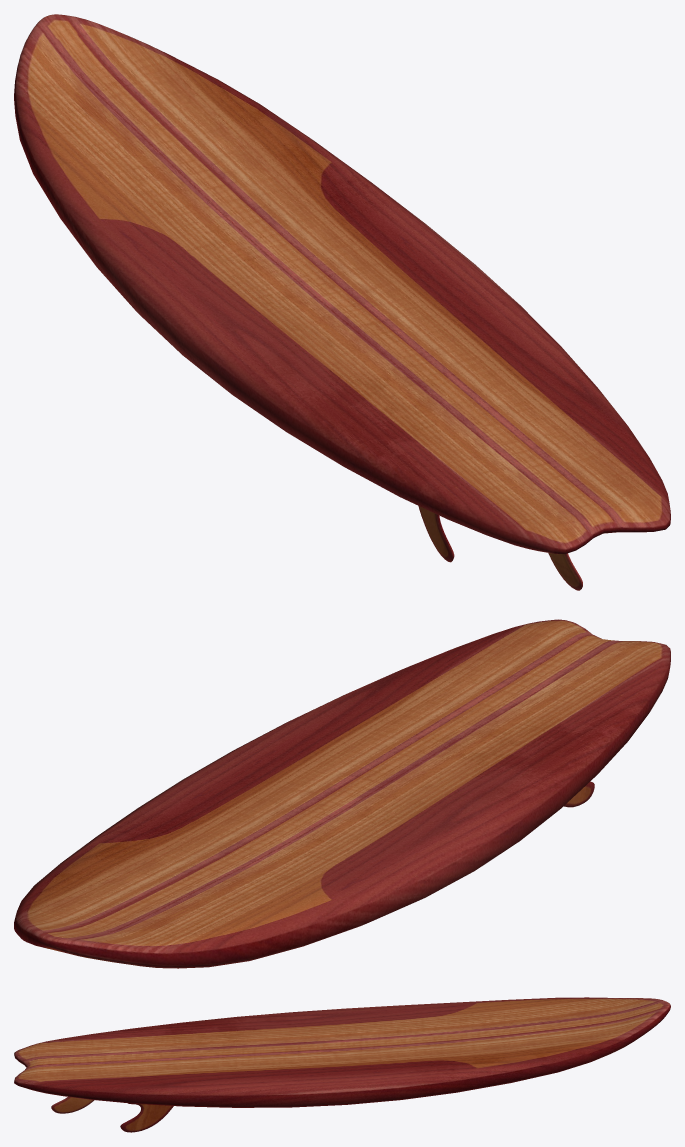
The model's file is tabla.glb.
3 renders of one model, top to bottom at view 1: azimuth 30°, elevation 25°; view 2: azimuth 150°, elevation 25°; view 3: azimuth 270°, elevation 25°, orthographic. The views are drawn at different scales.
Parts seen in each view (by area): view 1: Tabla; view 2: Tabla; view 3: Tabla.
Boxes of the visible parts, x1=… form: Tabla: x1=14, y1=14, x2=670, y2=590; Tabla: x1=14, y1=619, x2=670, y2=968; Tabla: x1=14, y1=997, x2=670, y2=1132.
Bounding box in the file's own units: 76.02 × 46.69 × 253.
Materials: 1 (1 with a texture image).
